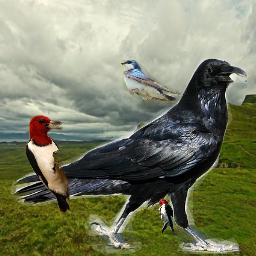Crow: (11, 58, 254, 254)
Swallow: (120, 60, 182, 106)
Woodpecker: (25, 115, 70, 213), (154, 199, 174, 233)
